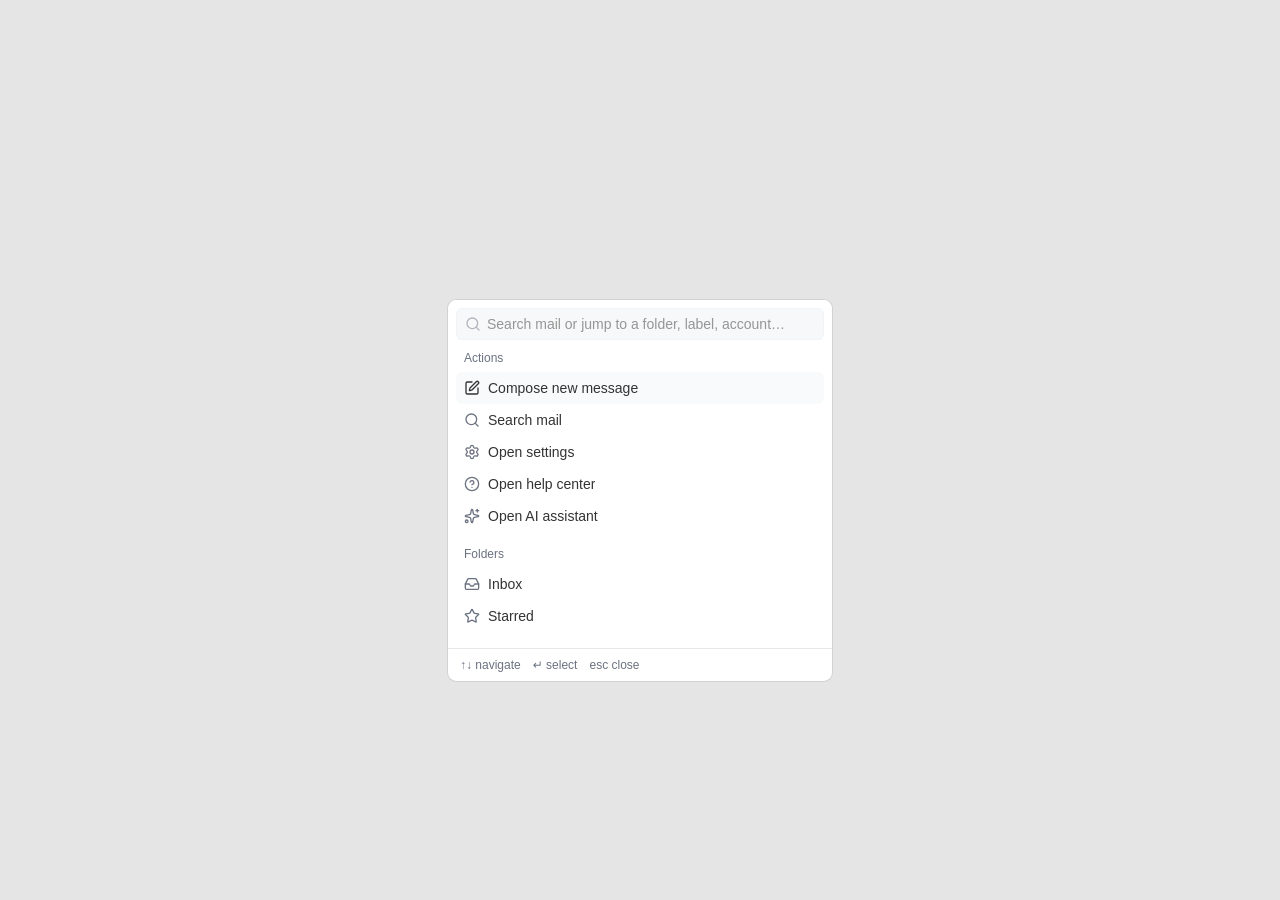
it: command palette › typing filters items across groups
In the dropdown: (652, 324) [481,314,823,334], type "trash"
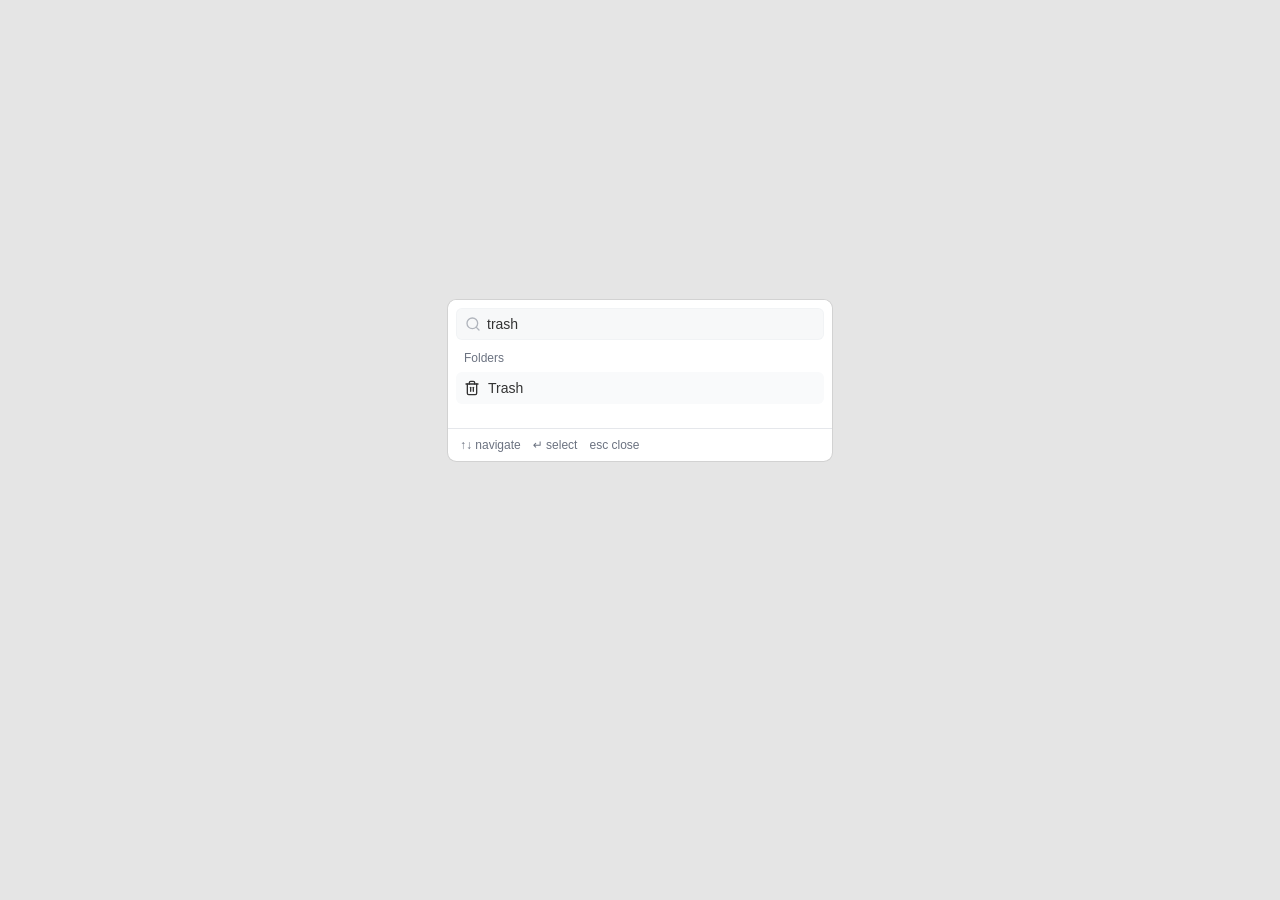
Now the number of options is 1, box [456,372,824,404]
Now the option "Compose new message" is gone
